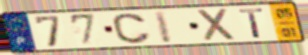7: (68, 13, 98, 48), (34, 15, 64, 48)
C: (110, 12, 153, 45)
I: (152, 9, 174, 45)
T: (237, 7, 266, 40)
X: (195, 7, 239, 43)
